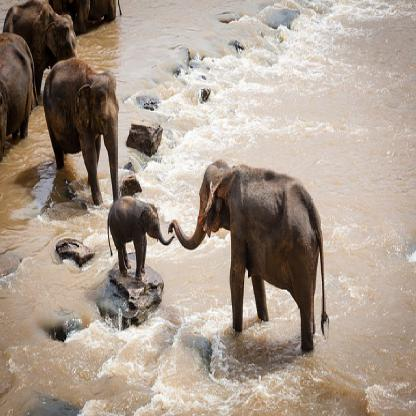elephant: (168, 159, 331, 355), (45, 68, 124, 198), (7, 1, 91, 87), (106, 199, 170, 285)
